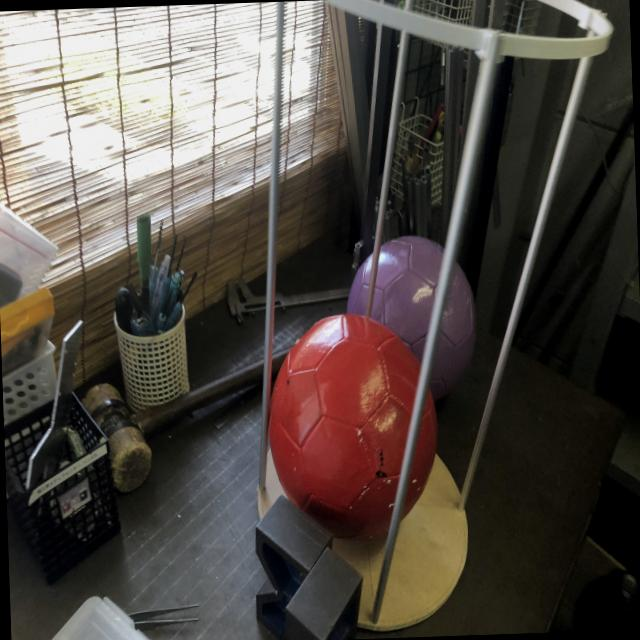purple_ball: (343, 234, 480, 406)
red_ball: (264, 312, 441, 544)
